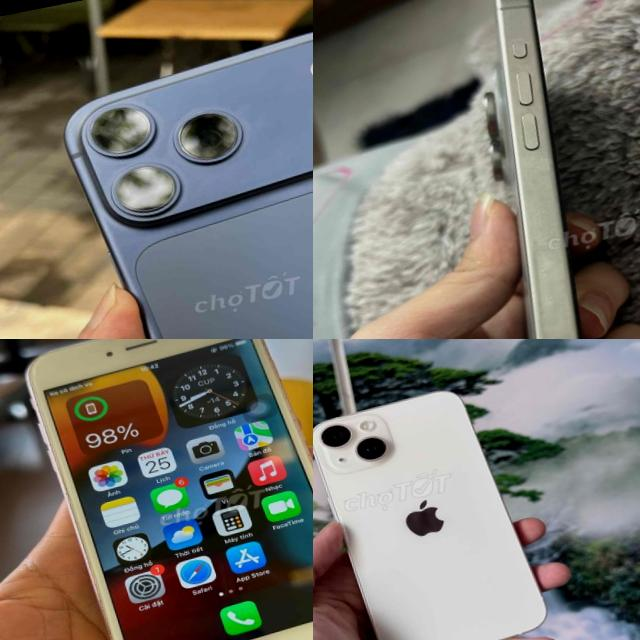scratch: (523, 218, 573, 339)
